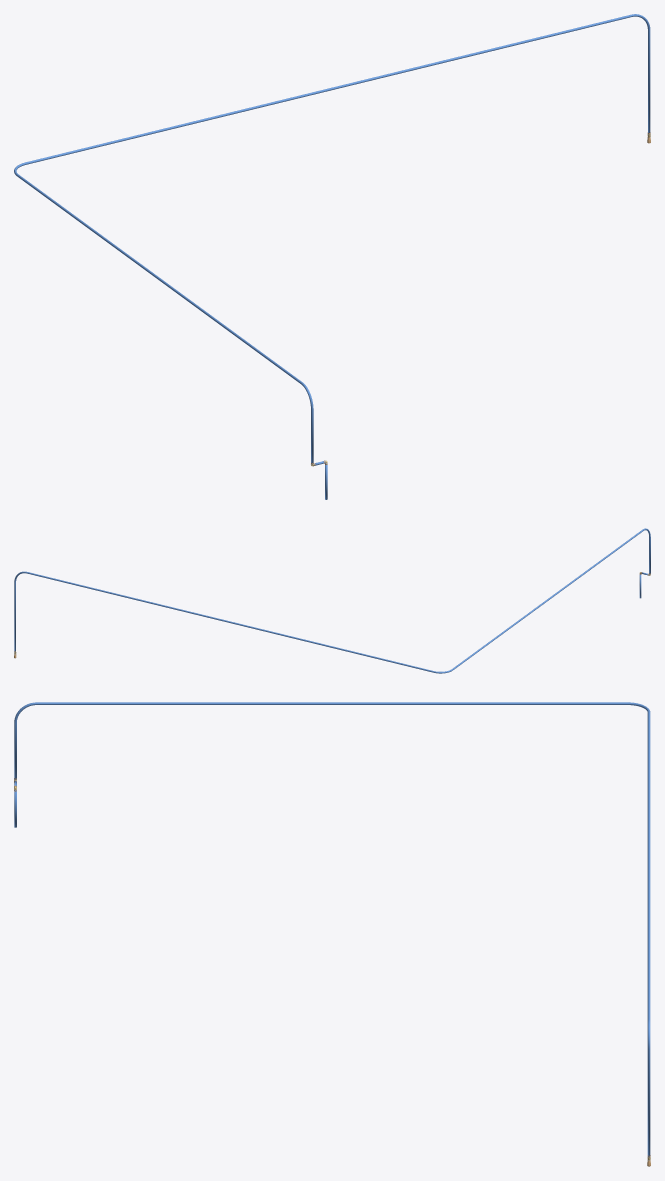
Rendered from slab_pipes_supply__water__50339bbb.glb.
3 renders of one model, top to bottom at view 1: azimuth 30°, elevation 25°; view 2: azimuth 150°, elevation 25°; view 3: azimuth 270°, elevation 25°, orthographic. The views are drawn at different scales.
Parts seen in each view (by area): view 1: pipe_supply_well_to_softener__pex; view 2: pipe_supply_well_to_softener__pex; view 3: pipe_supply_well_to_softener__pex.
Boxes of the visible parts, left/top/right/bottom form: pipe_supply_well_to_softener__pex: left=14, top=14, right=650, bottom=499; pipe_supply_well_to_softener__pex: left=14, top=528, right=650, bottom=673; pipe_supply_well_to_softener__pex: left=14, top=702, right=650, bottom=1157.
Size of the model in its own units: 6.45 by 1.27 by 5.31.
